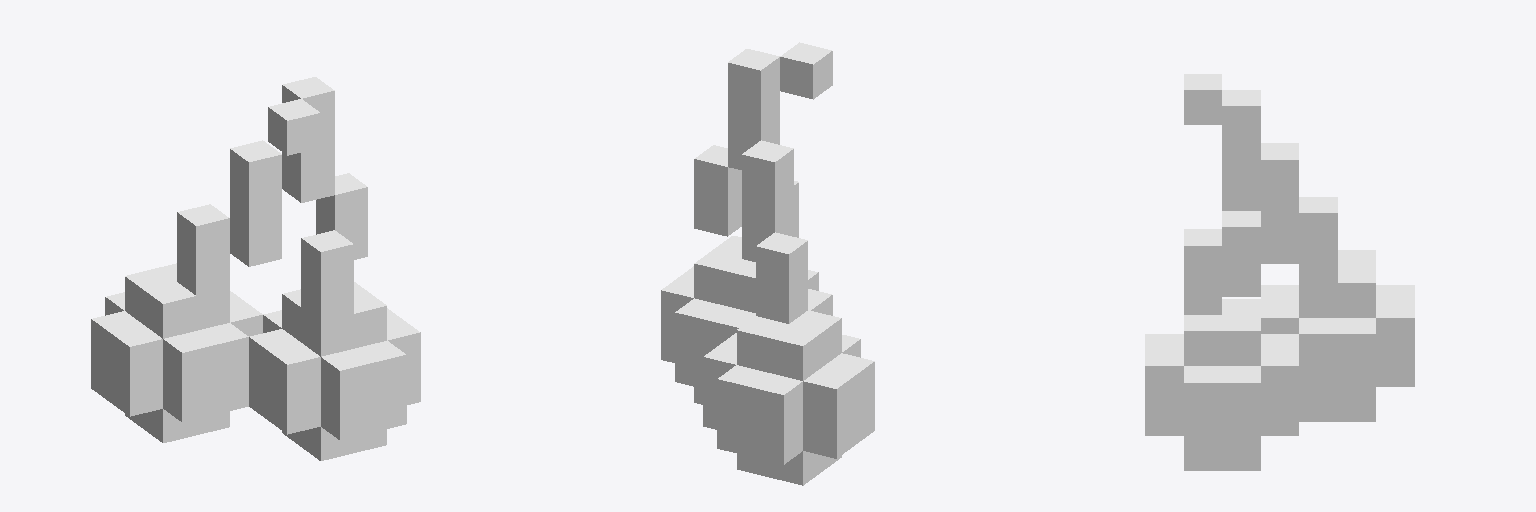
File: cherry_plant.vox.obj
The picture shows the model from 3 angles: view 1: azimuth 30°, elevation 25°; view 2: azimuth 150°, elevation 25°; view 3: azimuth 270°, elevation 25°; orthographic projection.
Visible parts, largest first — view 1: object 1; view 2: object 1; view 3: object 1.
Part boxes in pixels (x1,y1,x2,y2): object 1: (91, 77, 420, 460); object 1: (661, 42, 874, 485); object 1: (1145, 74, 1414, 470).
Bounding box in the file's own units: 0.7 × 1 × 0.7.